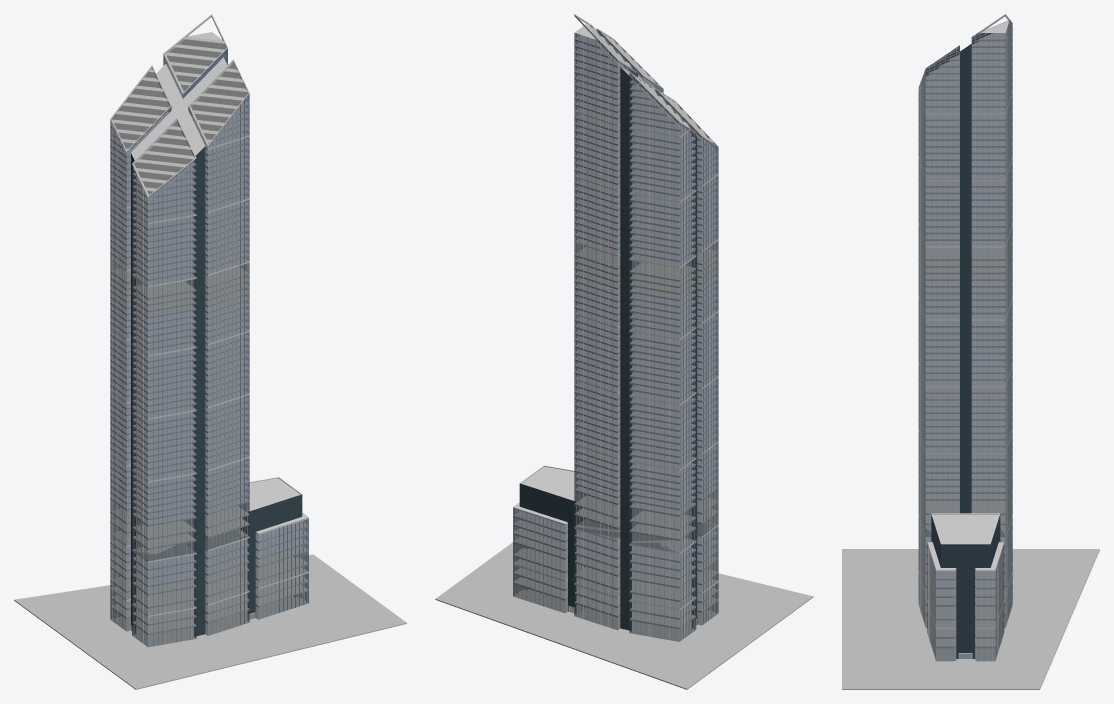
The model's file is 2wtc.obj.
3 renders of one model, left to right at view 1: azimuth 30°, elevation 25°; view 2: azimuth 150°, elevation 25°; view 3: azimuth 270°, elevation 25°, orthographic. The views are drawn at different scales.
Visible parts, largest first — view 1: floor, glass, glass3, base, lattice, glass2, roof_top2, roof_louvers, roof_top, glassdivider; view 2: floor, glass, lattice, glass3, base, glass2, glassdivider, roof_louvers; view 3: floor, glass, base, lattice, glass3, glass2, glassdivider.
Boxes of the visible parts, x1=… form: floor: x1=110, y1=54, x2=308, y2=634; glass: x1=110, y1=48, x2=308, y2=619; glass3: x1=110, y1=260, x2=308, y2=647; base: x1=14, y1=554, x2=406, y2=689; lattice: x1=112, y1=76, x2=307, y2=645; glass2: x1=131, y1=146, x2=302, y2=636; roof_top2: x1=112, y1=39, x2=247, y2=195; roof_louvers: x1=110, y1=14, x2=249, y2=197; roof_top: x1=131, y1=32, x2=227, y2=160; glassdivider: x1=110, y1=132, x2=308, y2=616; floor: x1=513, y1=35, x2=718, y2=628; glass: x1=513, y1=28, x2=718, y2=612; lattice: x1=514, y1=33, x2=716, y2=640; glass3: x1=513, y1=240, x2=718, y2=641; base: x1=435, y1=542, x2=813, y2=689; glass2: x1=519, y1=67, x2=697, y2=630; glassdivider: x1=513, y1=90, x2=718, y2=610; roof_louvers: x1=574, y1=14, x2=717, y2=146; floor: x1=919, y1=27, x2=1012, y2=648; glass: x1=918, y1=20, x2=1012, y2=658; base: x1=842, y1=549, x2=1099, y2=689; lattice: x1=919, y1=20, x2=1011, y2=660; glass3: x1=918, y1=225, x2=1012, y2=661; glass2: x1=931, y1=44, x2=1000, y2=658; glassdivider: x1=918, y1=90, x2=1012, y2=629.
Bounding box in the file's own units: 189 × 388 × 147.
